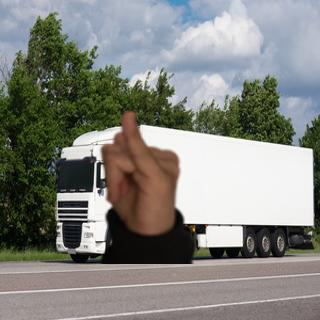HAVE: (89, 109, 191, 236)
